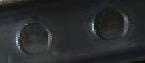joints: (89, 4, 131, 43), (15, 19, 54, 56)
